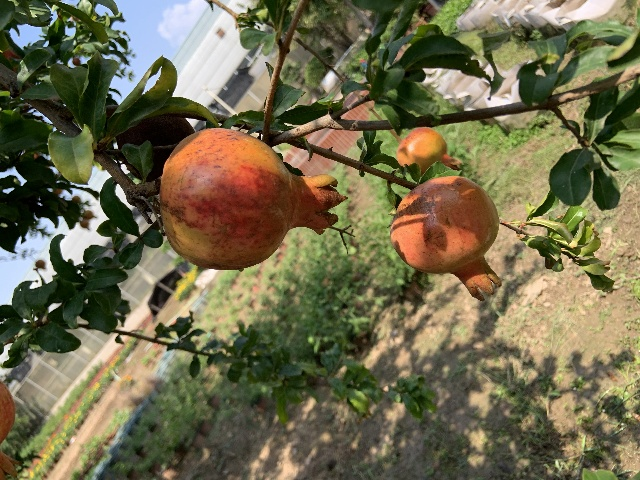ripe: (158, 128, 348, 270), (390, 176, 502, 301), (396, 126, 461, 174)
